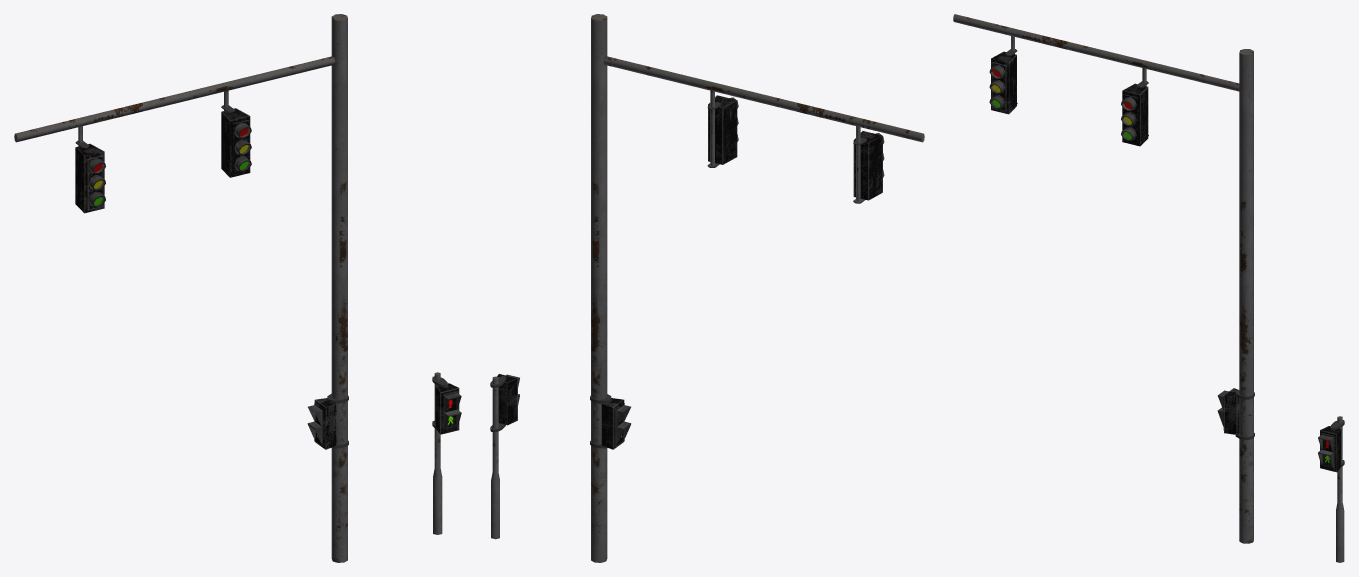
Rendered from main_traffic_light.glb.
The picture shows the model from 3 angles, left to right: view 1: azimuth 30°, elevation 25°; view 2: azimuth 150°, elevation 25°; view 3: azimuth 330°, elevation 25°; orthographic projection. The views are drawn at different scales.
Visible parts, largest first — view 1: Object_2; view 2: Object_2; view 3: Object_2.
Part boxes in pixels (x1,y1,x2,y2): Object_2: (14,14,461,562); Object_2: (490,14,924,562); Object_2: (953,14,1344,562).
Bounding box in the file's own units: 431 × 515 × 45.47.
Materials: 1 (1 with a texture image).
